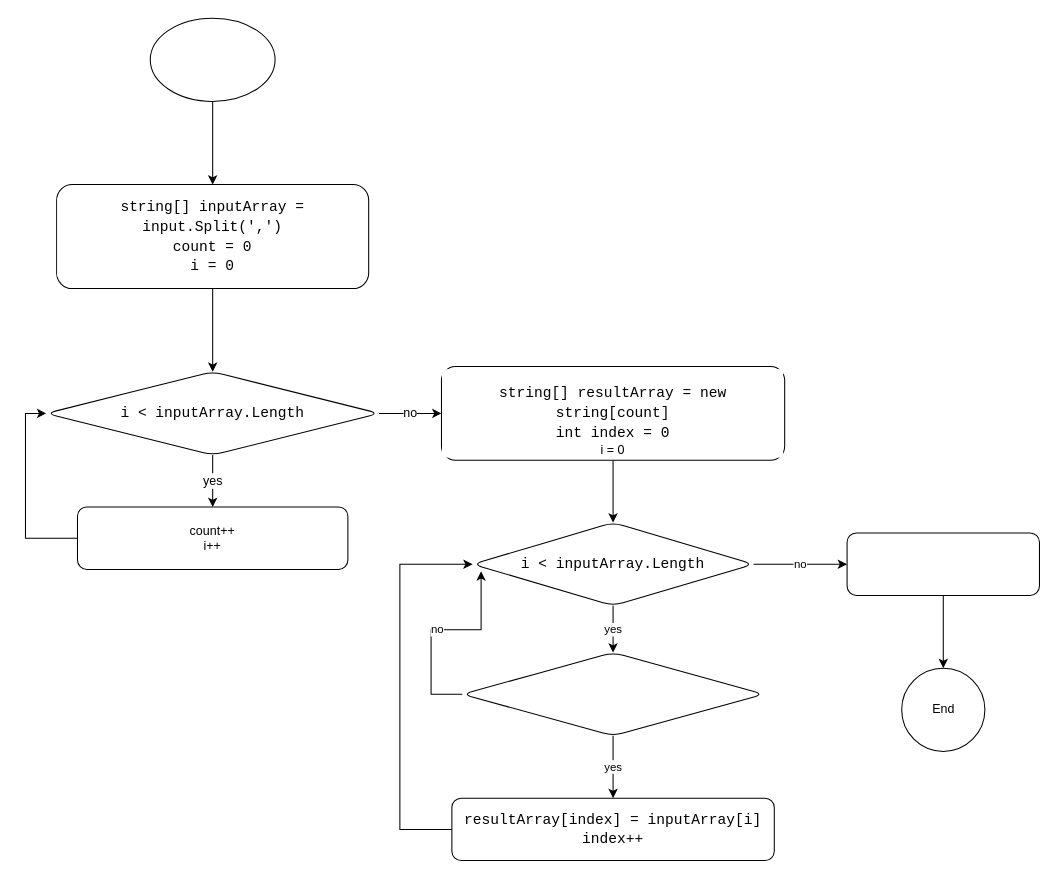
The diagram is 1058 pixels wide and 879 high, and some of its shapes have lost their labels. The centre of each missing label's shape, as x and y in pixels:
"inputArray[ i ] . Length <= 3" goes at pixel 612 694.
"print resultArray" goes at pixel 942 563.
"Start" goes at pixel 212 59.
